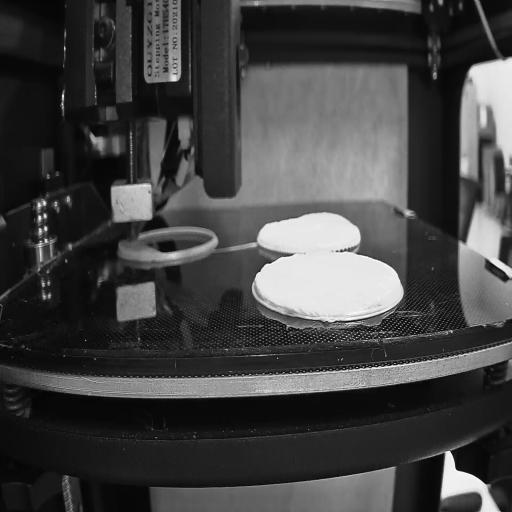over_extrusion: (250, 267, 270, 304)
